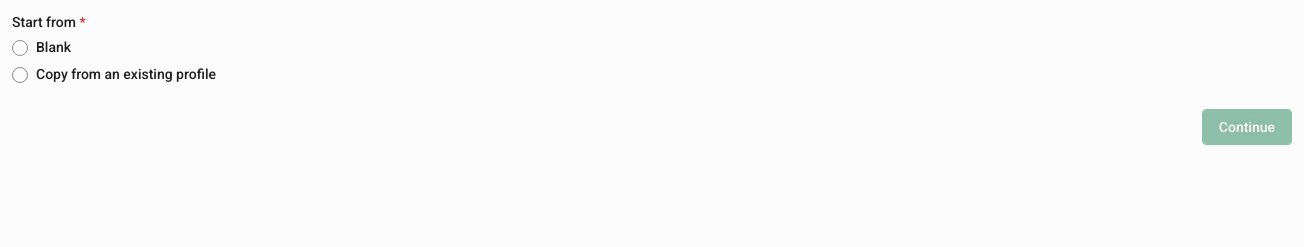
Test case: StartChooser › copy needs a profile picked, then starts a copy of it
Later steps or results of the test are not shown.
Click the radio button named "Copy from an existing profile" next to "Copy from an existing profile" at (20, 75), box left=12, top=67, right=28, bottom=83
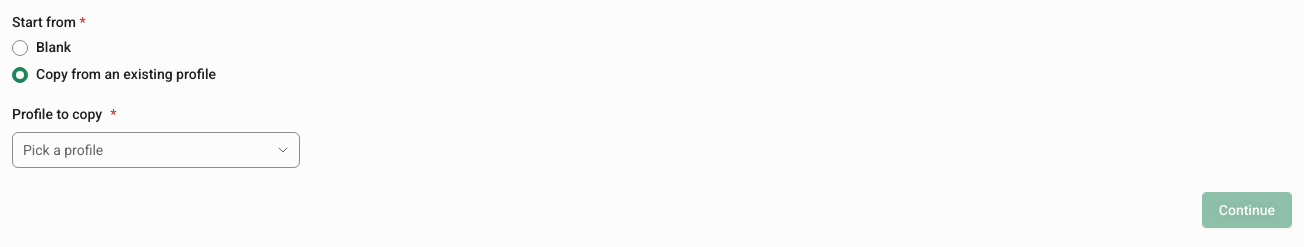
Expected: the button "Continue" is disabled, left=1202, top=192, right=1292, bottom=228
Click the dropdown named "Profile to copy" at (63, 150), box left=12, top=132, right=300, bottom=168
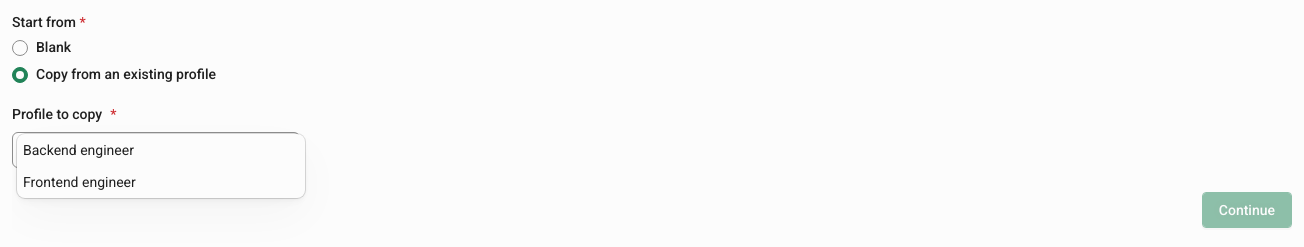
Click the option "Frontend engineer" at (79, 182), box left=23, top=174, right=136, bottom=190
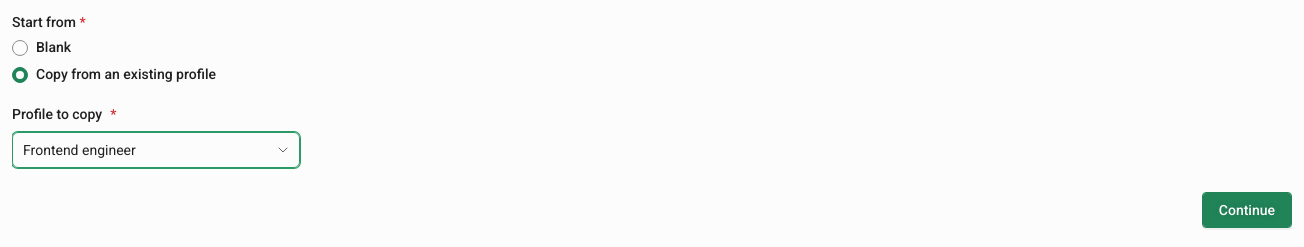
Expected: the button "Continue" is enabled, left=1202, top=192, right=1292, bottom=228
